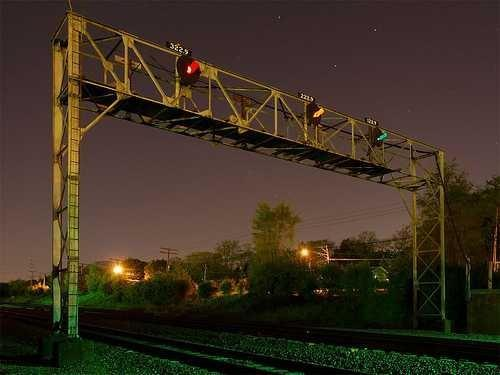5: (178, 56, 201, 82)
9: (307, 101, 326, 126)
red traffic light: (370, 125, 389, 147)
